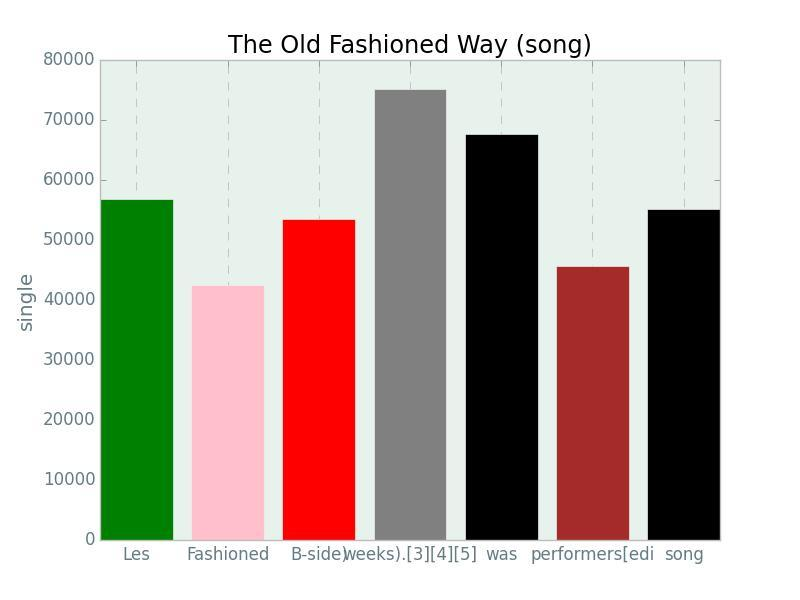axis: (17, 52, 96, 548)
rectangle: (373, 89, 446, 540), (464, 134, 538, 540), (100, 199, 173, 540), (647, 209, 720, 540), (282, 219, 356, 540), (556, 266, 629, 540), (191, 285, 264, 540)
